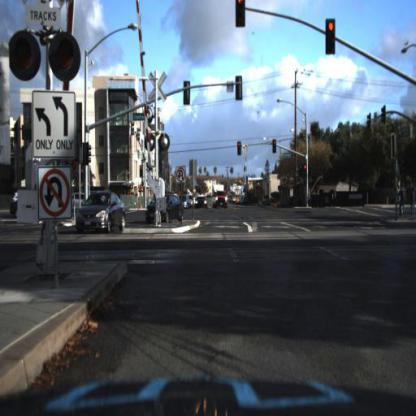biker: (397, 181, 408, 224)
car: (72, 189, 130, 241), (141, 193, 185, 228), (142, 192, 184, 225), (66, 189, 84, 211), (213, 192, 228, 211)
pedestrian: (393, 166, 406, 231), (329, 176, 339, 213), (410, 174, 416, 229), (333, 186, 341, 211), (411, 184, 416, 219)
trafficLight: (237, 140, 244, 159)
trafficLight-Red: (326, 17, 335, 49), (272, 138, 279, 155), (303, 160, 308, 178), (303, 162, 309, 173)
trafficLight-RedLeft: (233, 1, 248, 33)
